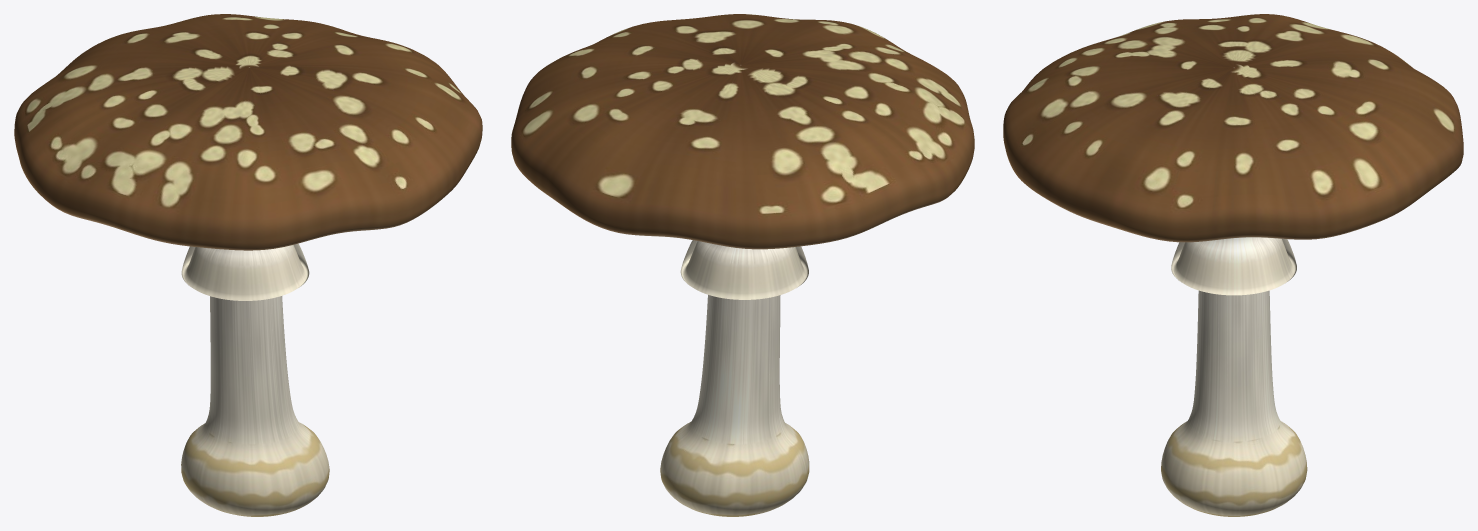
The model's file is amanita-regalis-drawn.glb.
The picture shows the model from 3 angles, left to right: view 1: azimuth 30°, elevation 25°; view 2: azimuth 150°, elevation 25°; view 3: azimuth 270°, elevation 25°; orthographic projection.
Size of the model in its own units: 0.8971 by 0.92 by 0.8962.
Materials: 1 (1 with a texture image).
